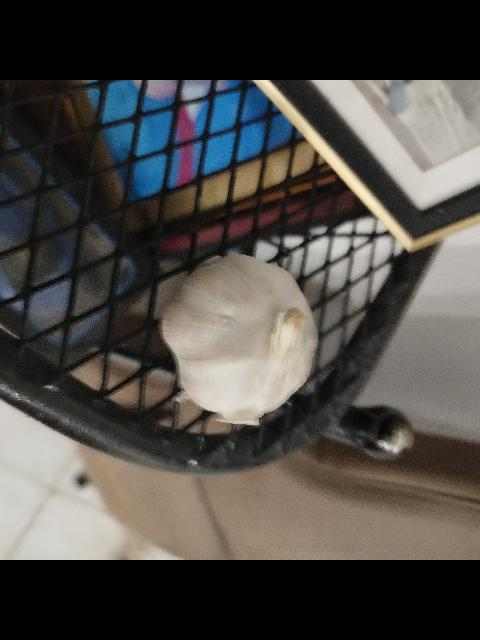garlic: (158, 252, 318, 428)
